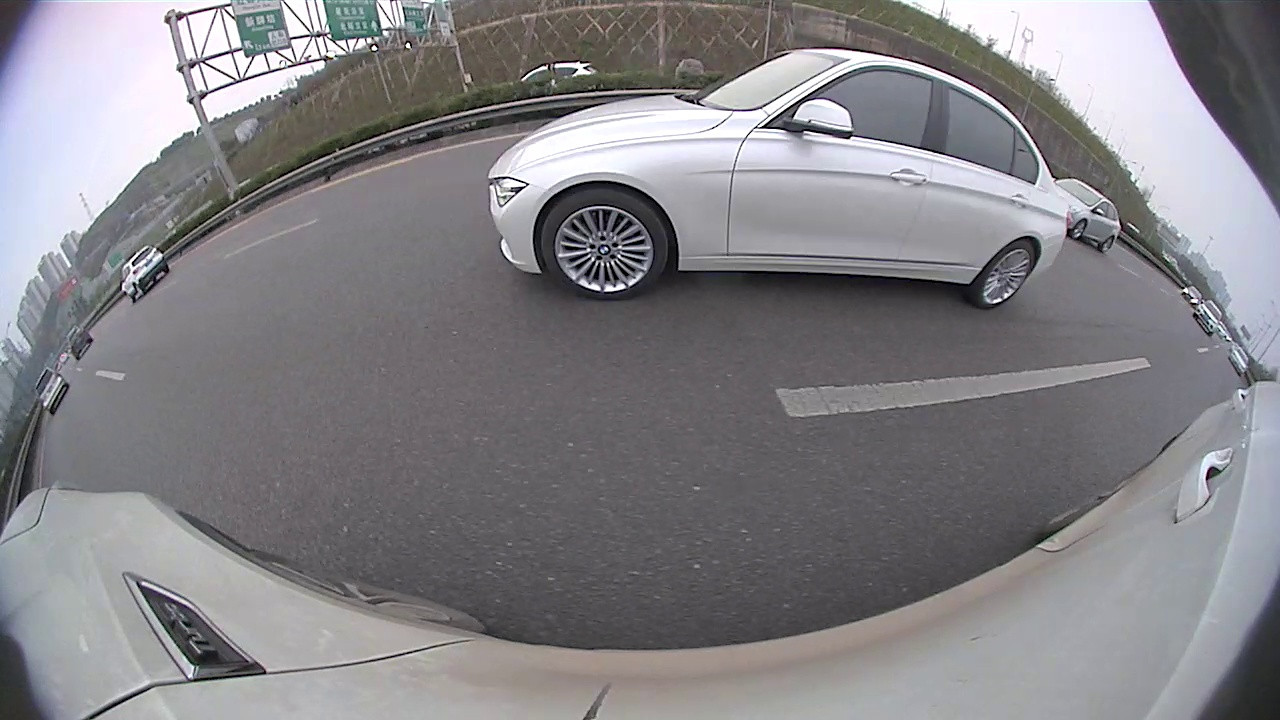car: (1078, 285, 1278, 464), (327, 150, 520, 256), (597, 130, 716, 222), (853, 176, 933, 219), (716, 152, 786, 196), (557, 160, 599, 190), (788, 167, 813, 193)
front: (1120, 344, 1213, 455), (506, 186, 521, 215), (854, 191, 864, 203)
rear: (444, 197, 469, 242), (888, 199, 899, 213), (735, 175, 744, 192)
